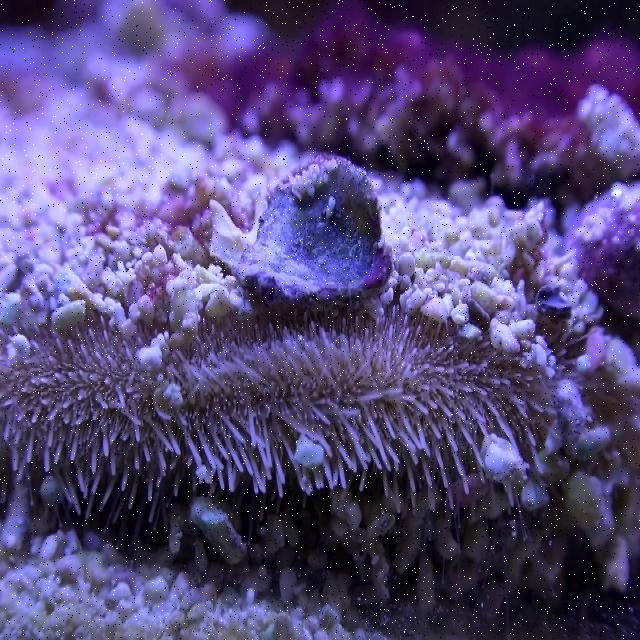fish: (208, 153, 394, 306)
reefs: (0, 307, 557, 521)
